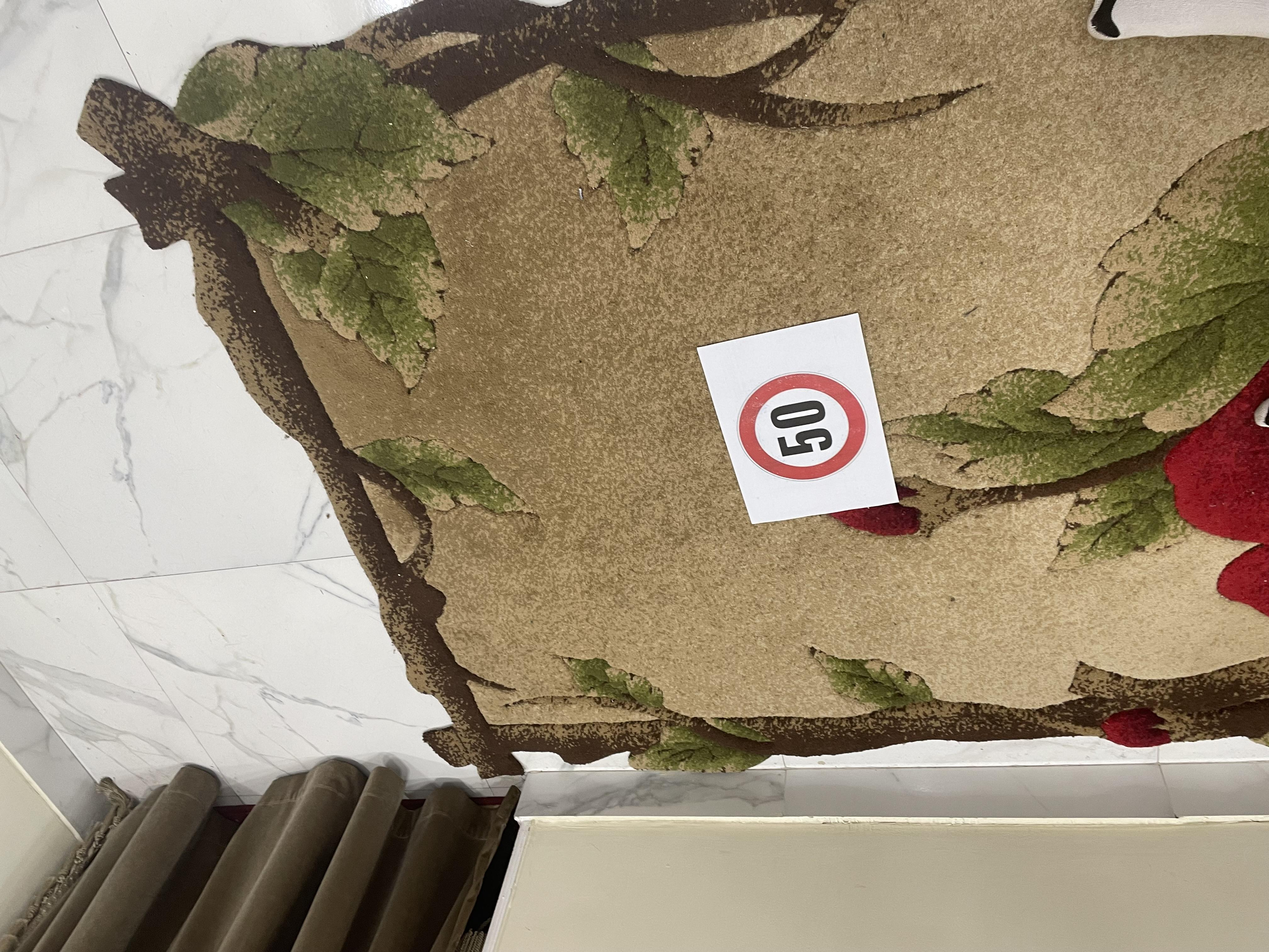50-Speed: (623, 551, 779, 651)
